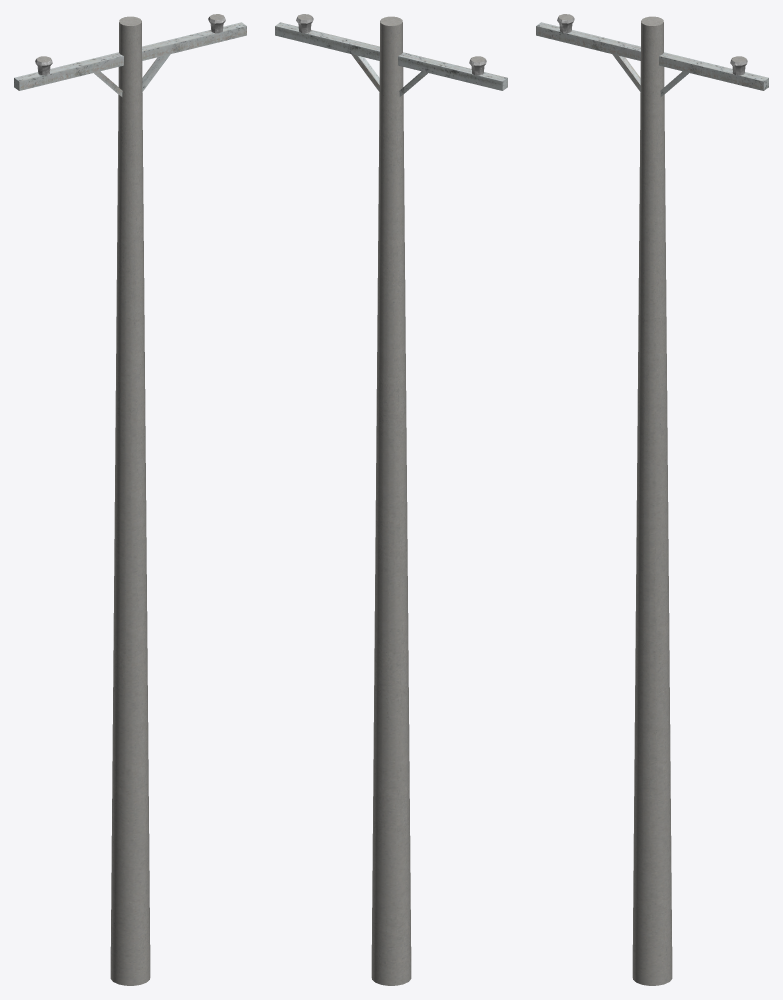
File: PowerPoles.fbx
The picture shows the model from 3 angles, left to right: view 1: azimuth 30°, elevation 25°; view 2: azimuth 150°, elevation 25°; view 3: azimuth 330°, elevation 25°; orthographic projection.
Parts seen in each view (by area): view 1: Power poles; view 2: Power poles; view 3: Power poles.
Boxes of the visible parts, <box> form: Power poles: <box>14,14,246,985</box>; Power poles: <box>275,14,507,985</box>; Power poles: <box>536,14,768,985</box>.
Bounding box in the file's own units: 349 × 1399 × 53.37.
Materials: 1 (1 with a texture image).
